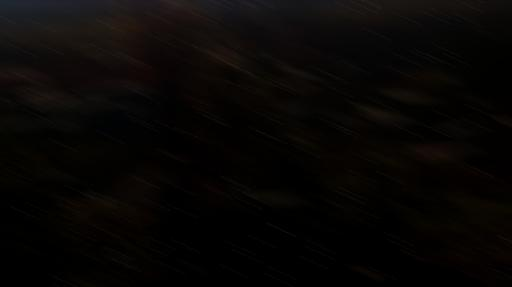Fish: (89, 170, 160, 215), (407, 142, 476, 159), (81, 81, 130, 97), (24, 93, 75, 108), (360, 110, 417, 123), (0, 66, 44, 81), (387, 91, 446, 102), (17, 86, 66, 99), (434, 121, 483, 134), (68, 97, 117, 110), (46, 113, 85, 128), (218, 45, 263, 58), (250, 193, 303, 204), (276, 103, 323, 114), (0, 117, 47, 128), (78, 45, 127, 55), (281, 67, 322, 78), (39, 167, 68, 182), (118, 53, 147, 68), (217, 57, 254, 68), (0, 68, 43, 77), (120, 80, 151, 91), (329, 116, 364, 125), (283, 82, 314, 91), (53, 107, 84, 116), (16, 72, 45, 81), (250, 73, 273, 84), (122, 102, 145, 113), (60, 122, 81, 133), (271, 24, 296, 33), (93, 56, 124, 63), (276, 117, 305, 124), (358, 106, 385, 113), (72, 178, 85, 185), (501, 118, 511, 127), (140, 93, 153, 99), (0, 98, 4, 105)
